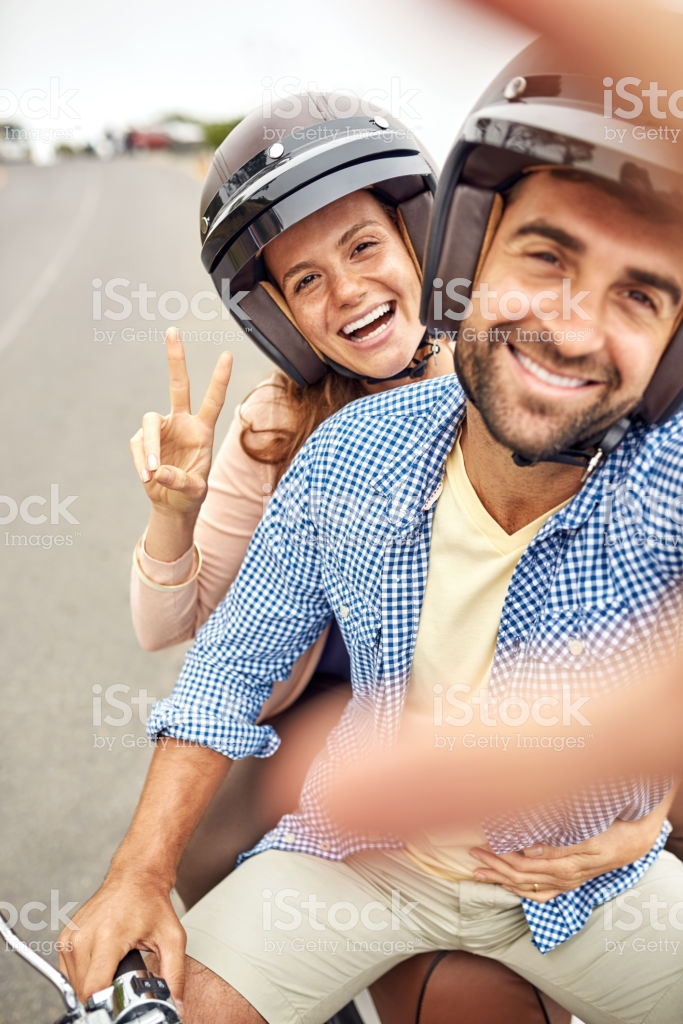helmet: (164, 101, 450, 320)
